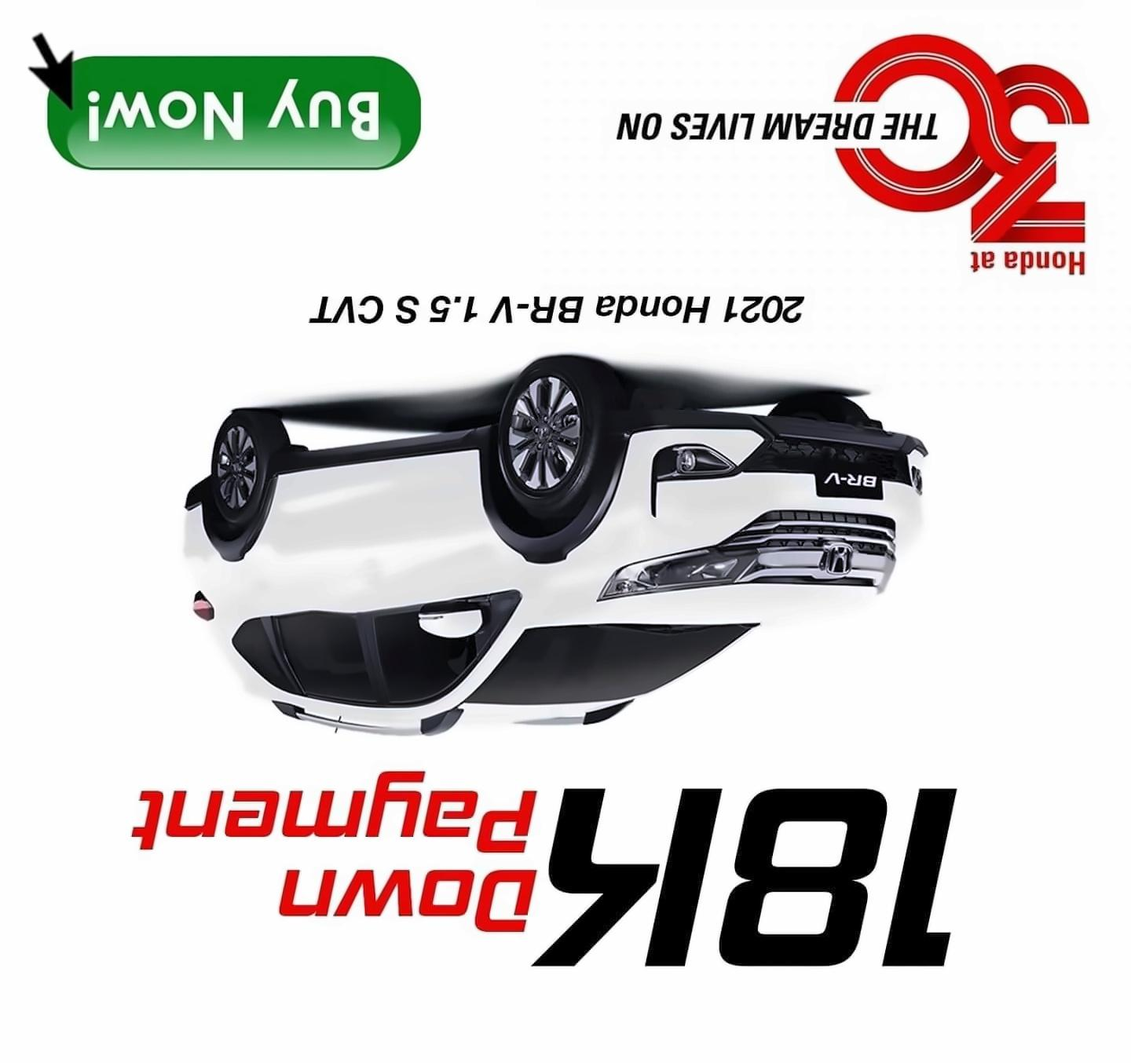Fender - -F-L-: (474, 438, 613, 634)
Fender - -R-L-: (209, 503, 264, 605)
Front bumper: (607, 399, 934, 560)
Headlight - -L-: (596, 542, 764, 607)
Passenger-s door - -F-L-: (364, 442, 489, 720)
Passenger-s door - -R-L-: (254, 457, 371, 718)
Rear bumper: (175, 469, 222, 569)
Rear light - -L-: (186, 589, 221, 629)
Side bumper - -L-: (268, 421, 498, 482)
Side mirror - -L-: (412, 593, 494, 641)
